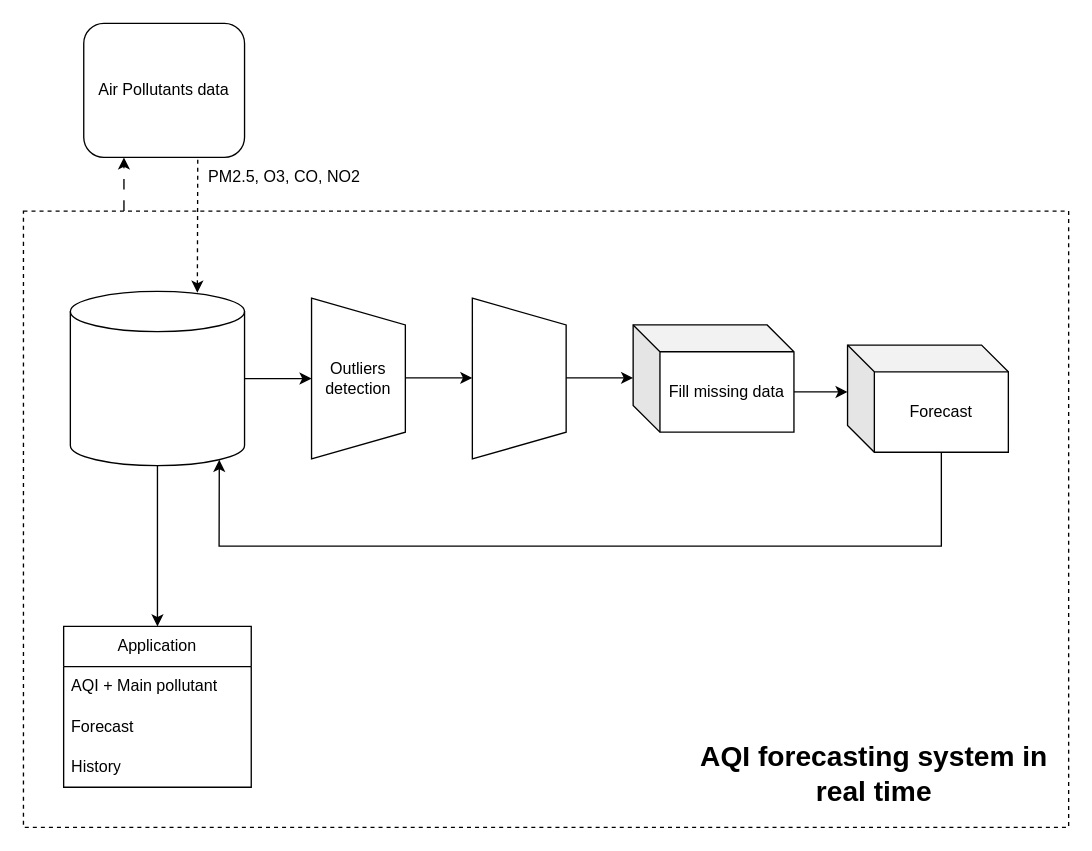
Some shapes in this 1092 by 851 pixel diagram are drawn without their labels. Here are the shapes that lost their labels. From the top down, the box of each, then its label:
(69, 290, 245, 466): Database
(471, 297, 566, 459): Data smoothing
